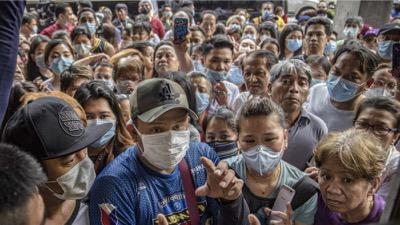mask_weared_incorrect: (204, 57, 232, 85), (128, 30, 146, 47), (363, 37, 377, 54), (62, 11, 74, 30)
with_mask: (48, 147, 97, 203), (138, 119, 191, 170), (239, 132, 284, 175), (325, 65, 361, 103), (84, 111, 116, 150), (205, 130, 239, 163), (365, 77, 398, 99), (48, 51, 72, 77), (376, 34, 399, 61), (115, 74, 140, 97), (192, 84, 209, 117), (227, 61, 243, 84), (71, 39, 90, 58), (78, 16, 96, 36), (186, 37, 203, 58), (93, 73, 114, 90), (285, 34, 303, 53), (189, 54, 206, 73), (34, 48, 48, 71), (308, 69, 324, 88), (342, 23, 359, 40), (323, 37, 337, 56), (240, 29, 257, 42), (240, 42, 255, 56), (258, 31, 273, 44), (121, 110, 132, 127), (119, 33, 130, 49), (229, 21, 241, 32), (139, 4, 150, 16), (316, 5, 327, 16), (261, 7, 271, 19), (30, 23, 38, 36), (297, 22, 306, 33), (237, 13, 246, 24), (164, 9, 172, 19), (190, 6, 195, 18), (280, 10, 285, 19)
without_mask: (316, 166, 363, 214), (271, 74, 308, 113), (353, 117, 394, 149), (243, 67, 269, 97), (154, 51, 179, 77), (304, 31, 326, 53), (200, 20, 215, 37), (12, 61, 22, 84), (144, 51, 154, 72), (116, 9, 124, 19)
